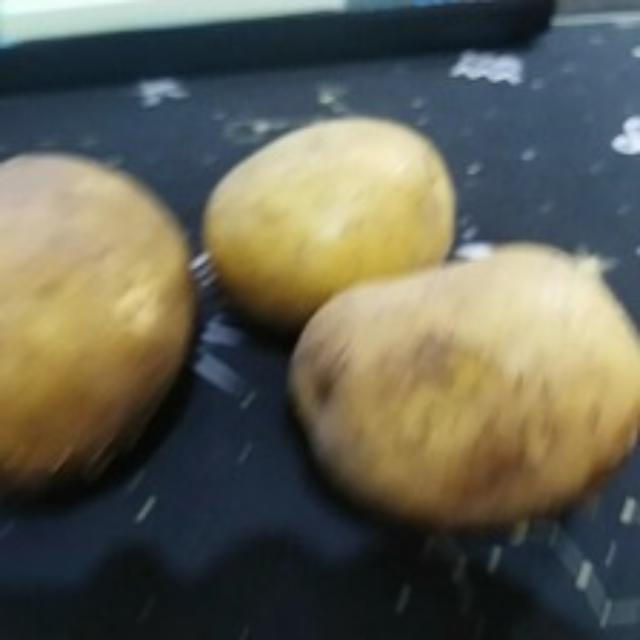Damaged potato: (286, 245, 640, 543), (4, 149, 204, 516)
Potato: (198, 113, 462, 327)
